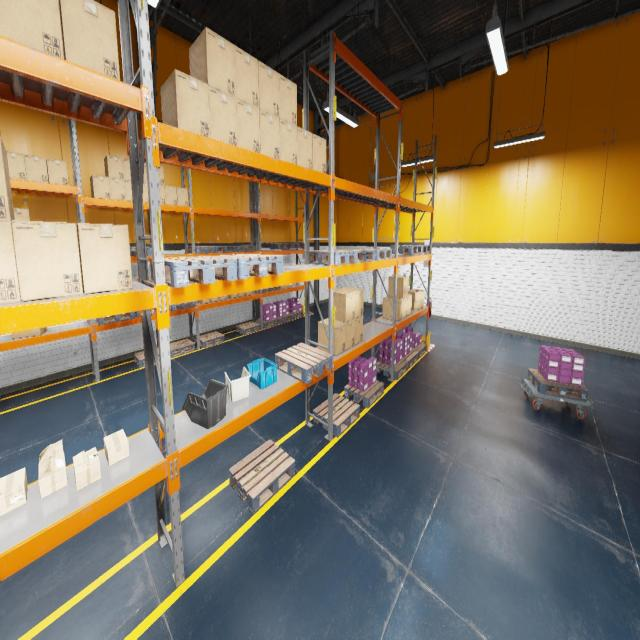box: (11, 220, 83, 302), (59, 0, 120, 81), (76, 223, 133, 294), (0, 0, 64, 59), (160, 69, 210, 137), (188, 27, 236, 97), (38, 439, 68, 498), (208, 85, 237, 146), (0, 221, 21, 304), (234, 45, 259, 108), (0, 467, 27, 516), (236, 98, 260, 153), (0, 136, 15, 221), (73, 446, 101, 491), (258, 61, 280, 118), (318, 318, 346, 356), (259, 109, 280, 159), (104, 429, 129, 466), (279, 74, 297, 125), (280, 119, 297, 164), (339, 287, 363, 318), (334, 288, 355, 322), (24, 154, 48, 183), (46, 158, 69, 185), (6, 151, 27, 180), (298, 126, 312, 169), (382, 296, 403, 321), (313, 133, 326, 173), (104, 155, 124, 179), (90, 175, 110, 198), (388, 276, 408, 298), (11, 327, 47, 338), (109, 177, 125, 200), (391, 296, 407, 318), (408, 289, 424, 310), (346, 319, 354, 350), (355, 315, 363, 345), (176, 187, 188, 206), (165, 186, 177, 205), (122, 158, 131, 180), (14, 208, 30, 220), (124, 179, 132, 201), (158, 165, 164, 185), (160, 185, 166, 204), (407, 294, 412, 315), (143, 182, 148, 202), (143, 162, 147, 182), (198, 298, 211, 303), (229, 293, 239, 298), (278, 284, 290, 288), (220, 295, 228, 300), (212, 297, 220, 302), (246, 291, 254, 295), (239, 292, 246, 296)
pallets: (229, 439, 295, 514), (150, 256, 237, 287), (275, 343, 332, 384), (313, 393, 360, 437), (528, 369, 588, 401), (209, 254, 283, 279), (344, 380, 384, 408), (309, 250, 357, 266), (376, 359, 408, 380), (334, 249, 375, 262), (134, 347, 159, 367), (170, 338, 195, 358), (95, 312, 135, 324), (196, 331, 224, 348), (358, 248, 392, 260), (236, 321, 260, 335), (402, 350, 418, 368), (391, 244, 422, 253), (412, 342, 427, 358), (256, 318, 280, 328), (169, 302, 194, 311), (188, 246, 216, 254), (130, 247, 152, 256), (405, 245, 431, 252), (135, 308, 154, 317), (231, 245, 255, 252), (277, 314, 292, 324), (215, 245, 236, 252), (255, 286, 278, 292), (289, 310, 304, 319), (270, 243, 292, 249), (288, 244, 304, 248), (0, 395, 1, 402)
